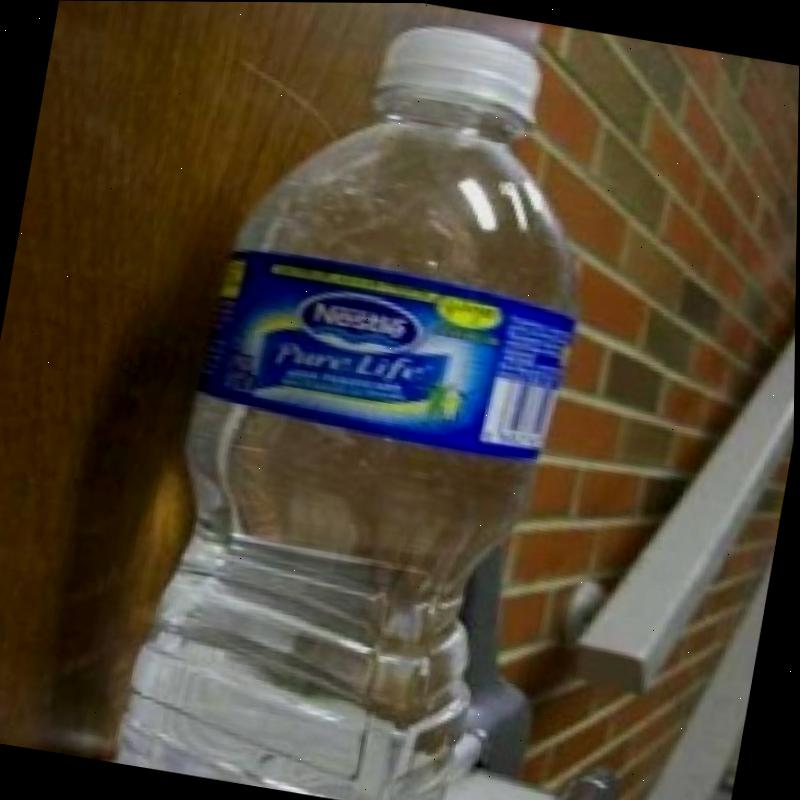botella: (107, 1, 625, 800)
